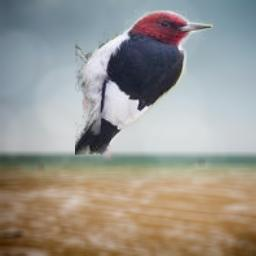Woodpecker: (75, 10, 213, 155)
